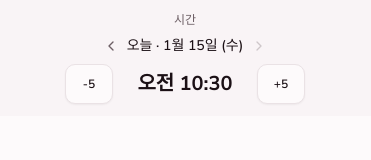
Scenario: TimePicker › exits edit mode when 확인 is clicked
The image size is (371, 160).
What coordinates should you click on to do the following:
click the button "오전 10:30"
I would click on:
 (185, 84)
Its box is [125,66,245,102].
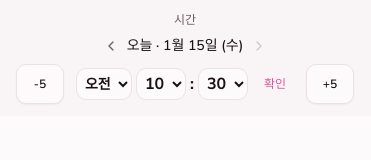
Now the button "확인" is shown
What coordinates should you click on to do the following:
click the button "확인"
I would click on:
 (275, 84)
Its box is [256,72,294,96].
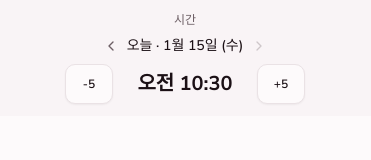
Now the button "확인" is gone
